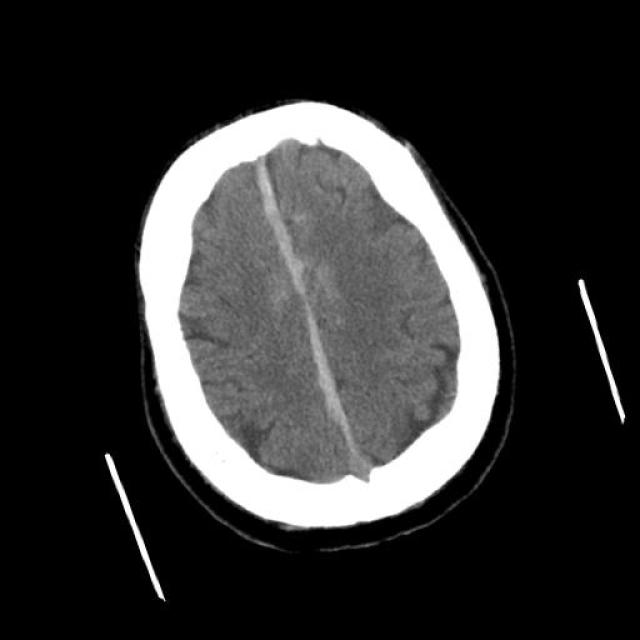Subdural: (214, 140, 398, 502)
